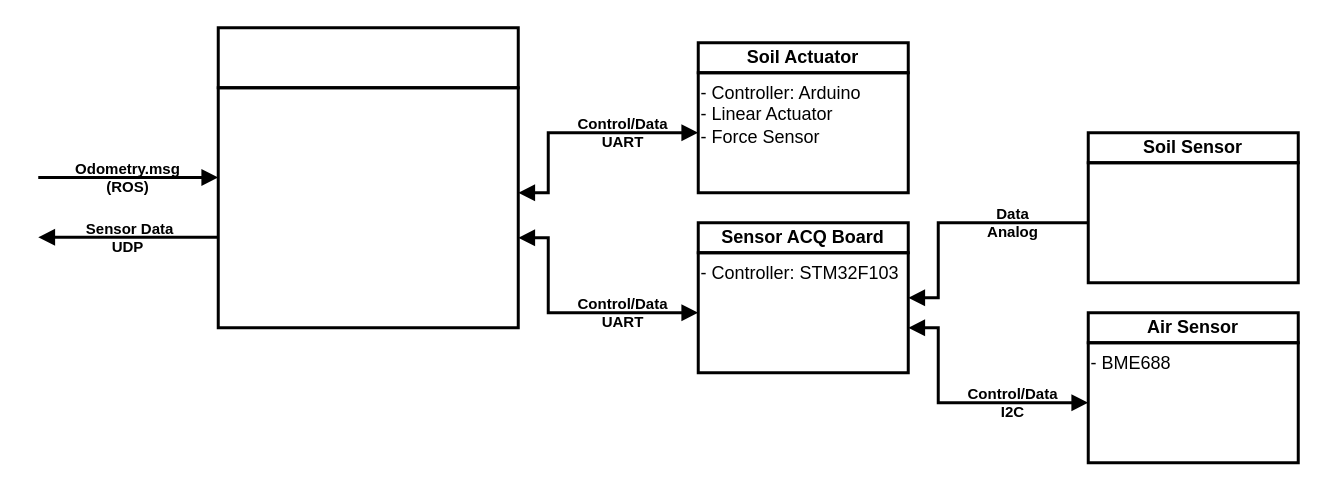
Image size: 1325x489. Some labels were removed from this diagram. Here are the shapes that lost their labels. From the top down, the centre of each, then its label:
At point (367, 57): "Acquistion Hub (NavQPlus)".
At point (367, 207): "- Script: acquistionHub.py".
At point (1192, 222): "- 3 in 1 Soil Sensor - Buffer Amplifier".
